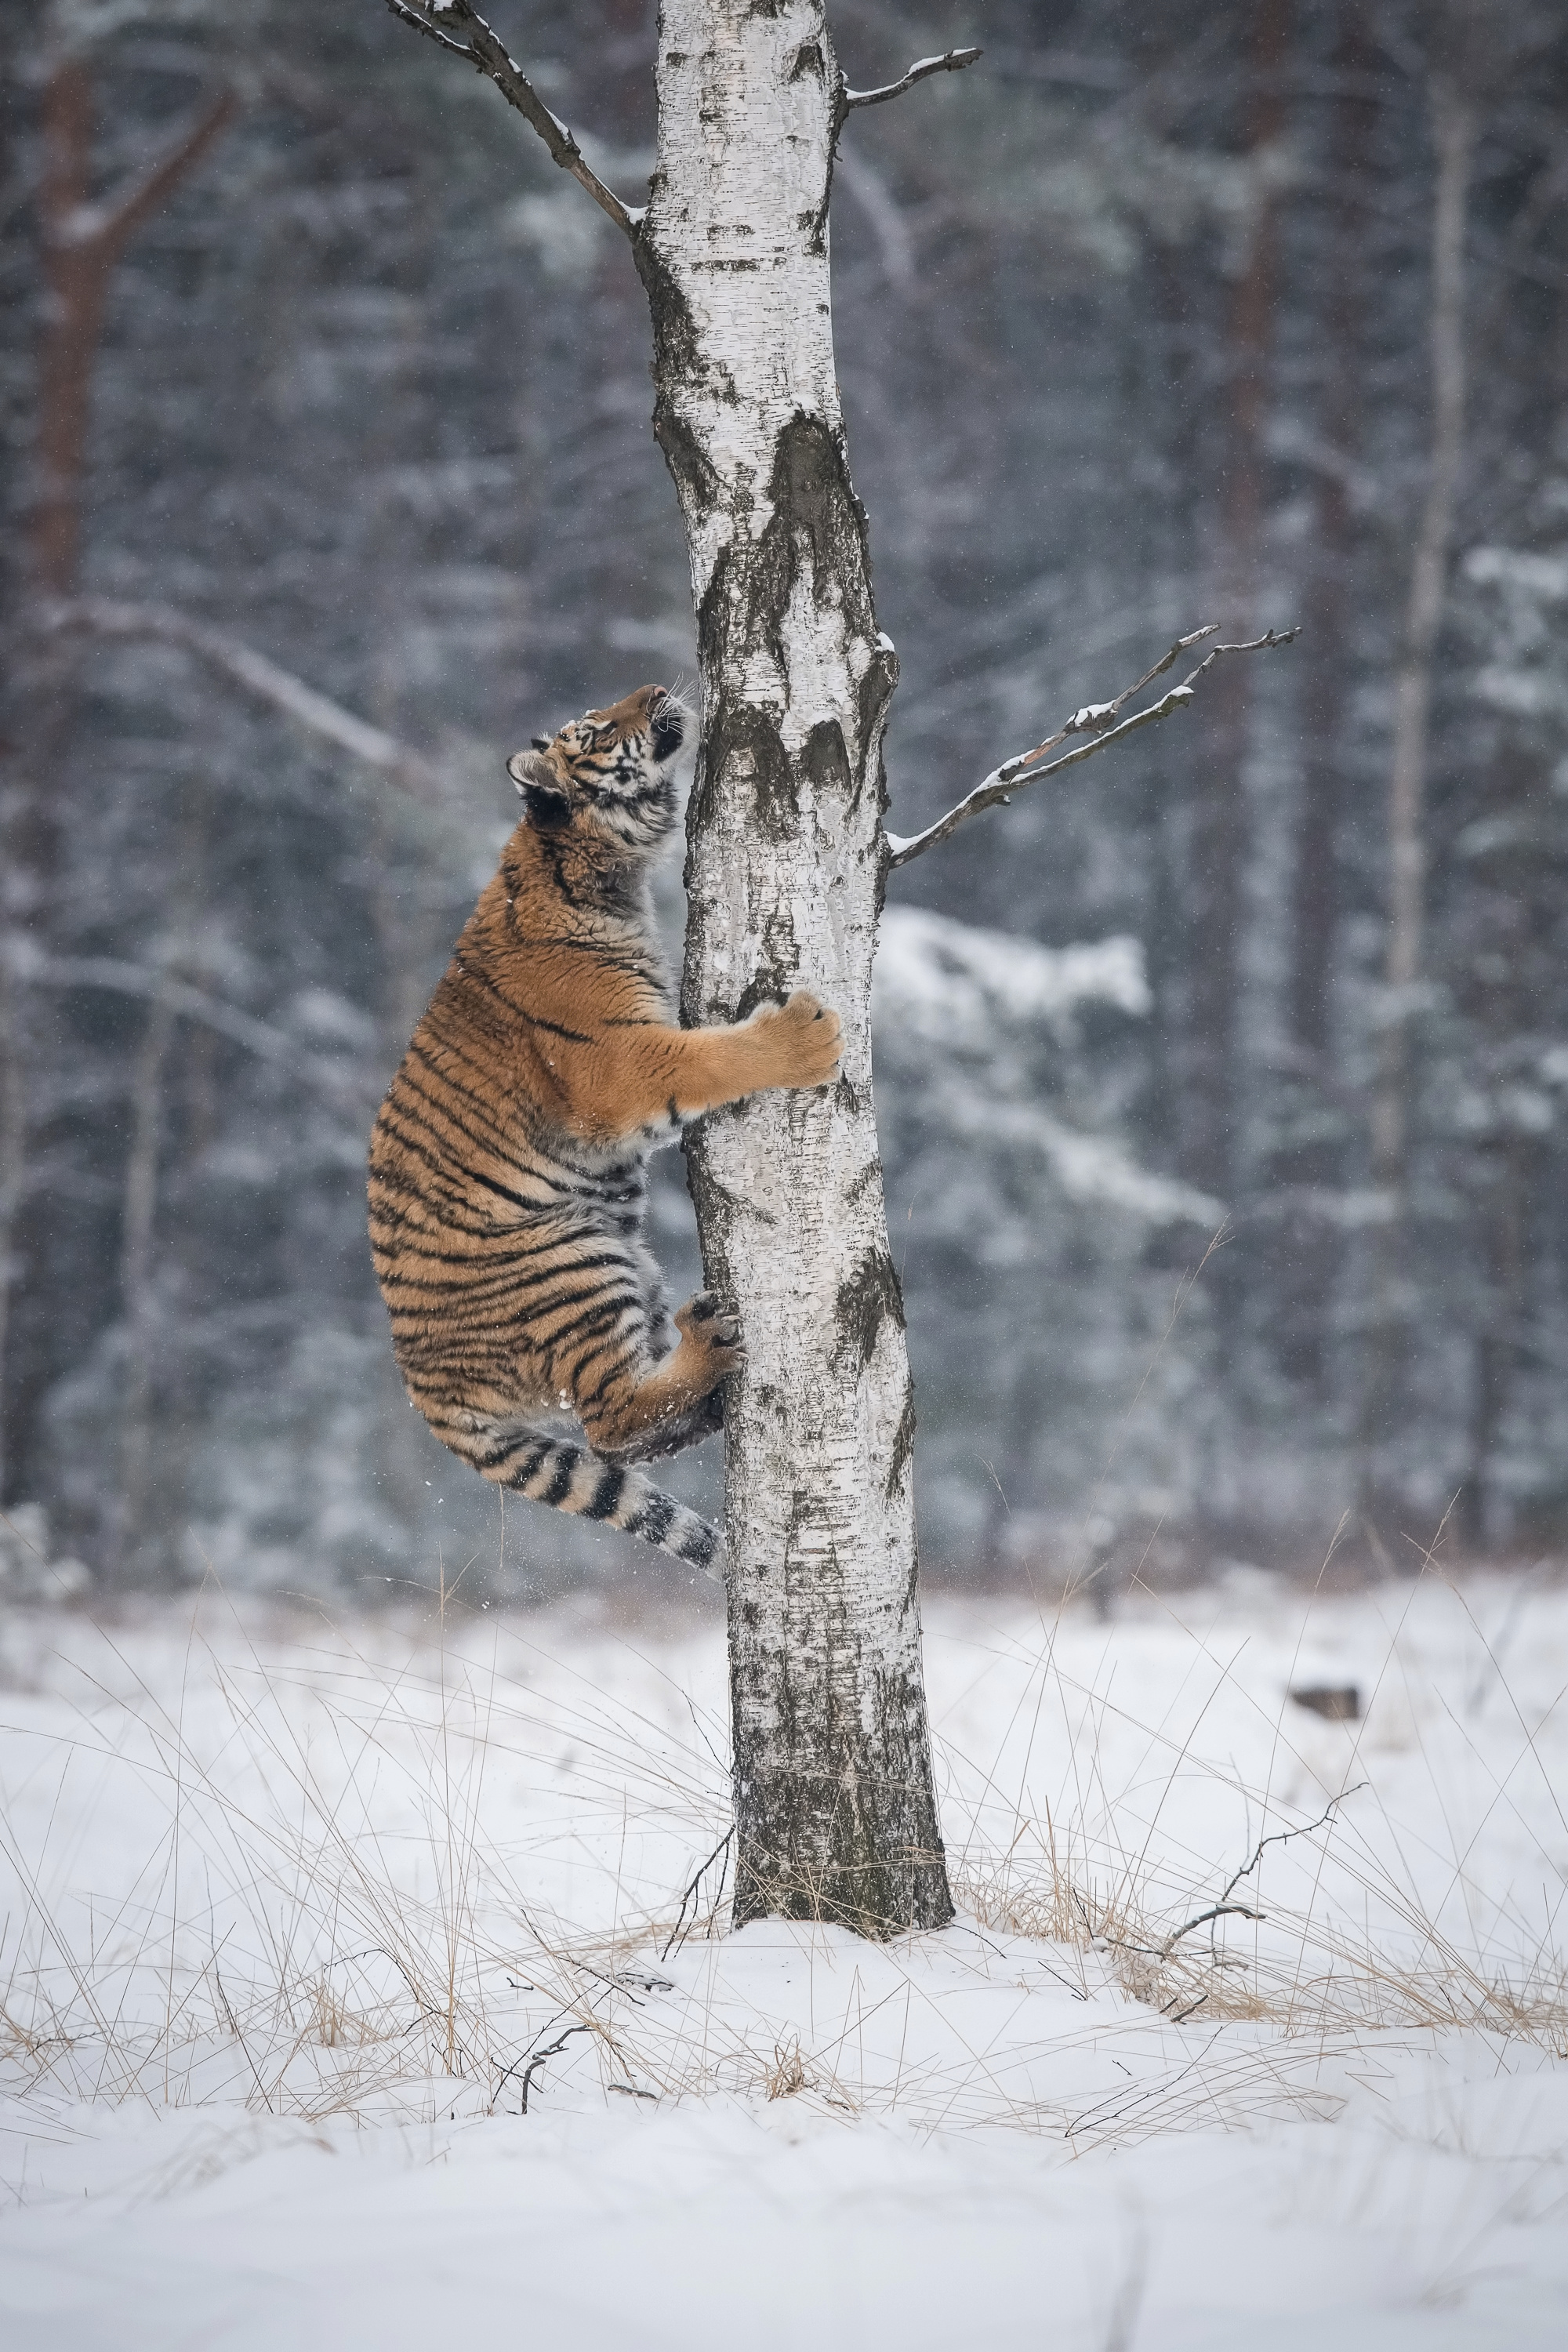tiger: (387, 665, 884, 1582)
